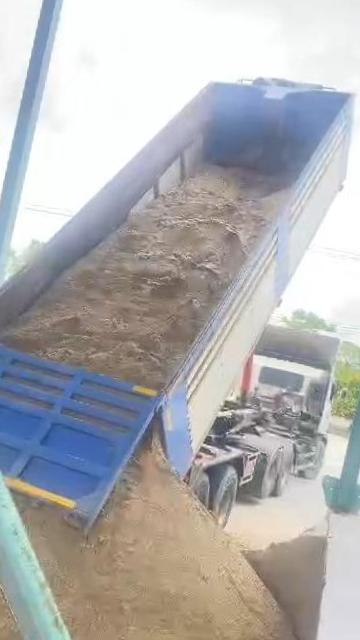sand: (0, 165, 287, 388), (24, 451, 299, 640), (0, 473, 52, 640), (246, 530, 323, 640)
